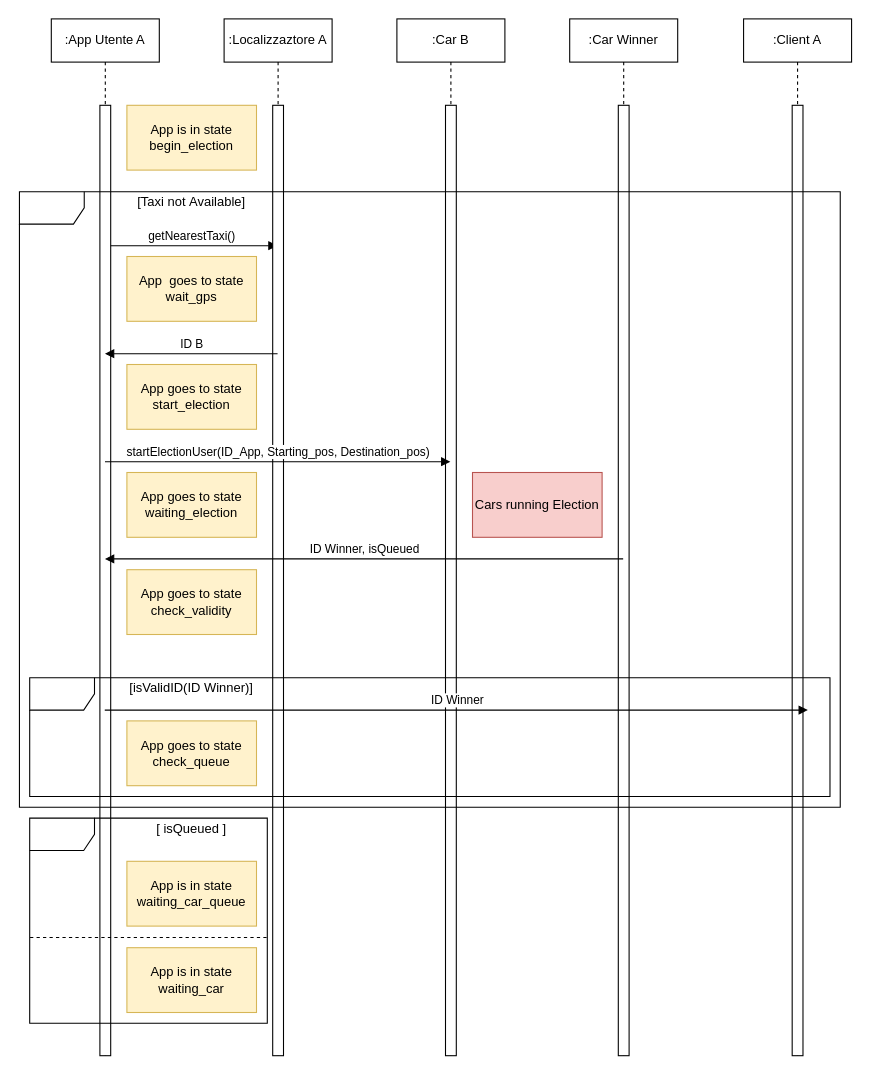
Image size: 870x1075. Some labels were removed from this diagram. Here are the shapes that lost their labels. From the top down, the centre of each, then its label:
At (429,499): "loop".
At (429,736): "opt".
At (148,920): "alt".
